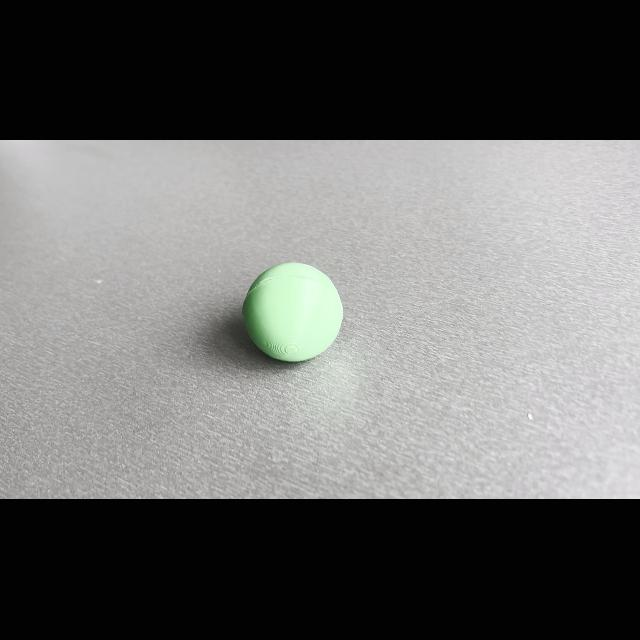objects: (234, 256, 346, 372)
